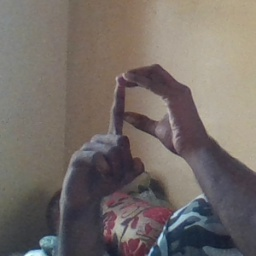P: (64, 62, 202, 195)
